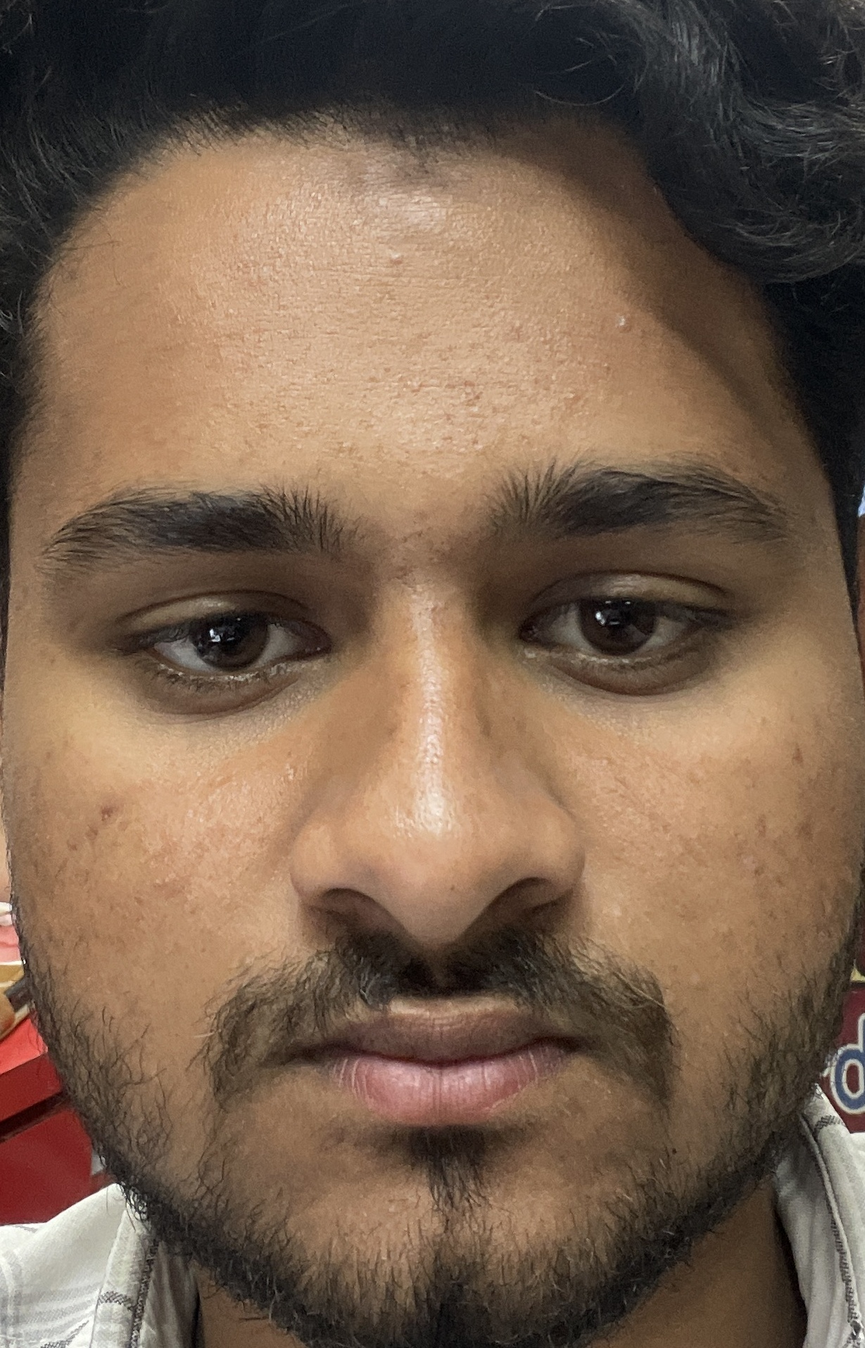closed_comedone: (381, 221, 435, 304), (435, 413, 517, 466), (671, 940, 708, 1018), (597, 297, 655, 341)
